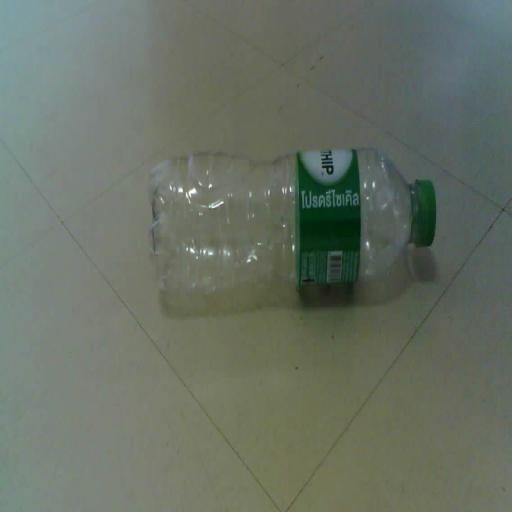bottle: (116, 108, 460, 344)
